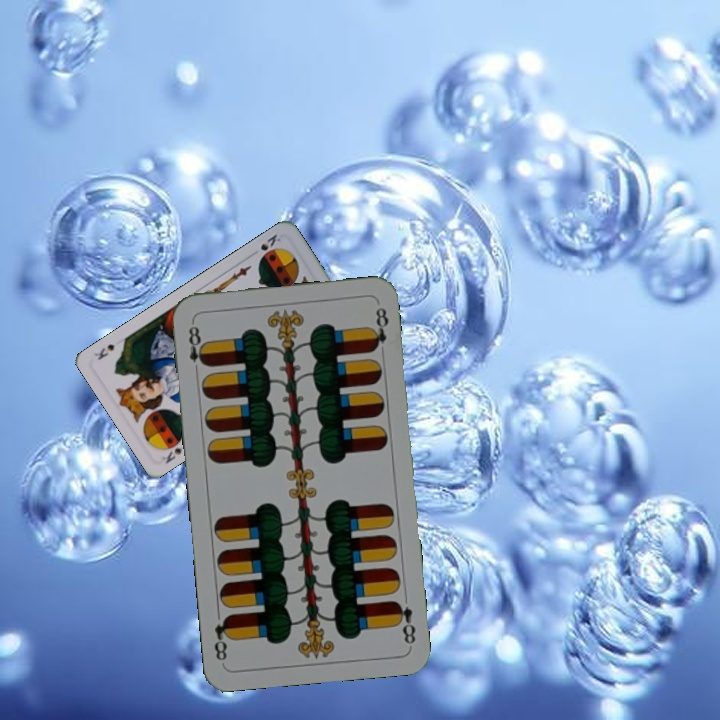E8: (185, 317, 209, 377), (391, 596, 418, 647)
SK: (256, 230, 283, 261), (158, 444, 185, 466)
